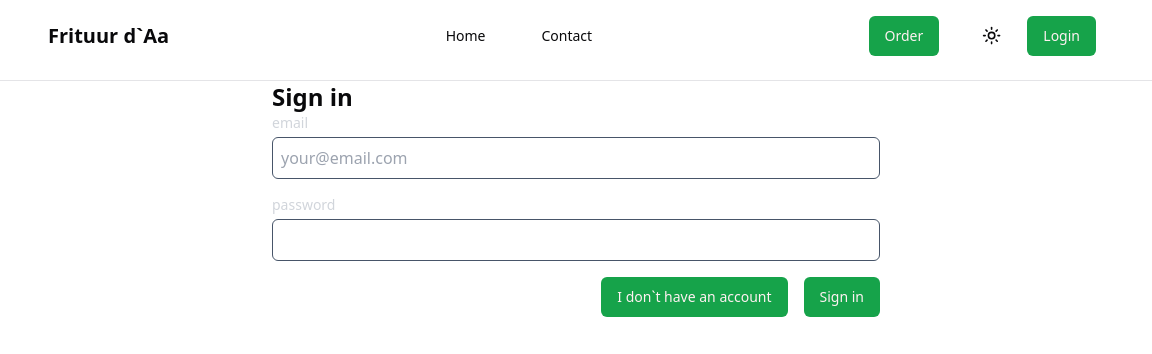
Test: The Login Page › invalid email
Type "test" into the field with test id "email". click: (576, 158)
box: [272,137,880,179]
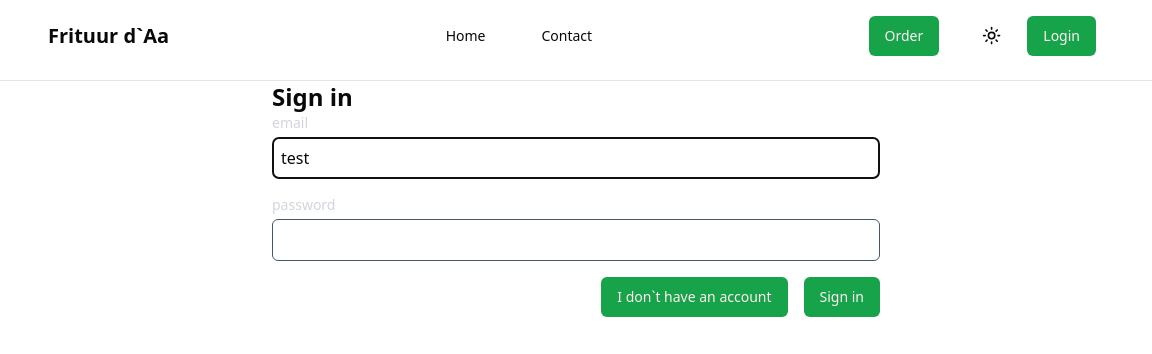
Type "password" into the password field with test id "password". click: (576, 240)
box: [272,219,880,261]
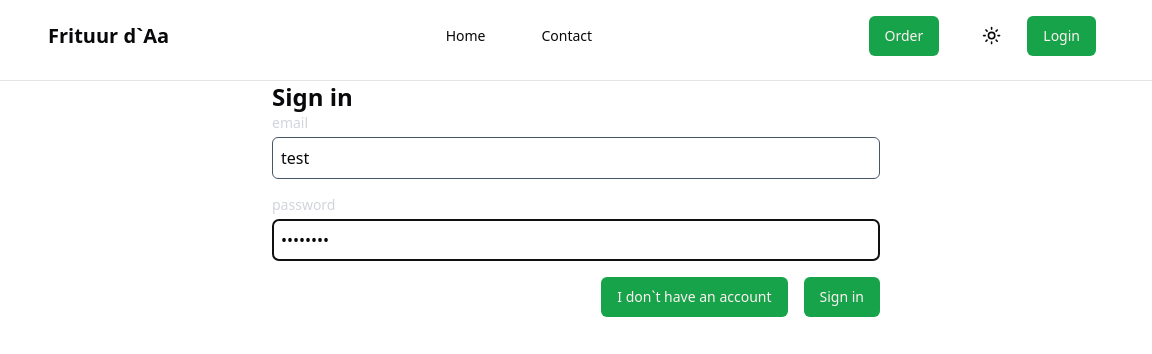
Click the button with test id "login". click: click(843, 297)
box: [804,277,881,317]
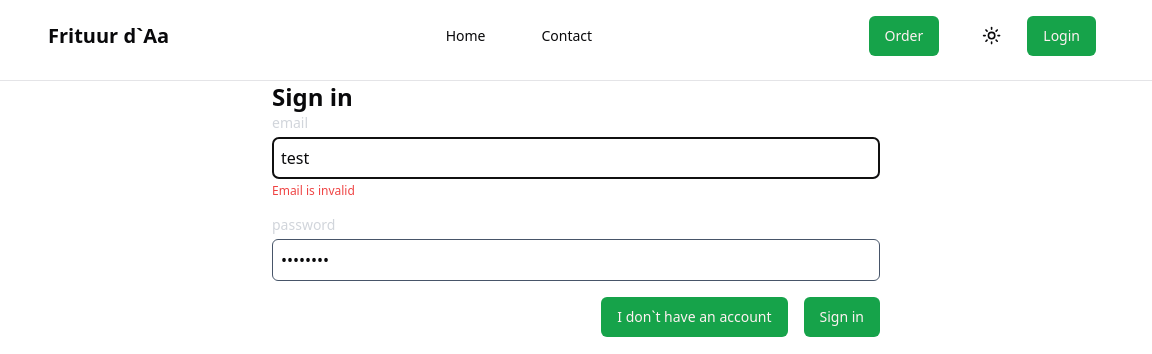
Expected: the element with test id "error" reads "Email is invalid", [272,182,355,199]
